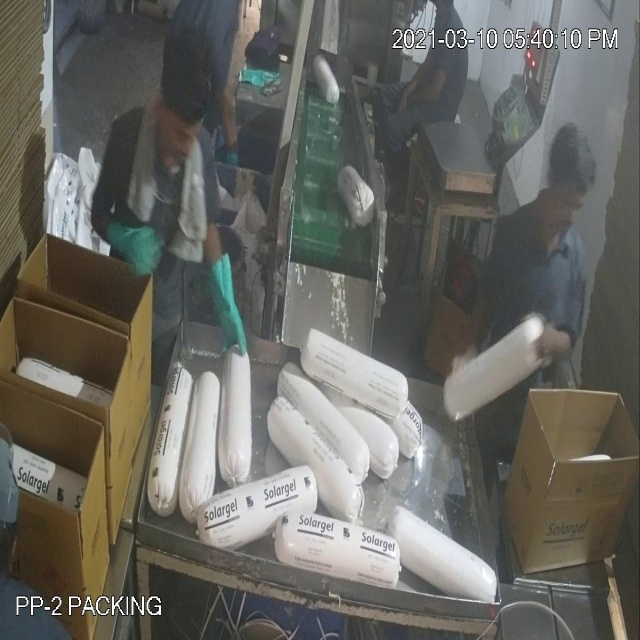Guantes: (202, 246, 261, 380), (97, 200, 170, 282)
Sin_guantes: (395, 55, 452, 112)
